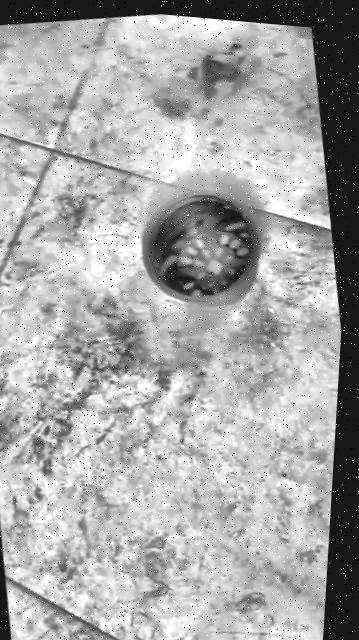pot: (143, 190, 256, 304)
